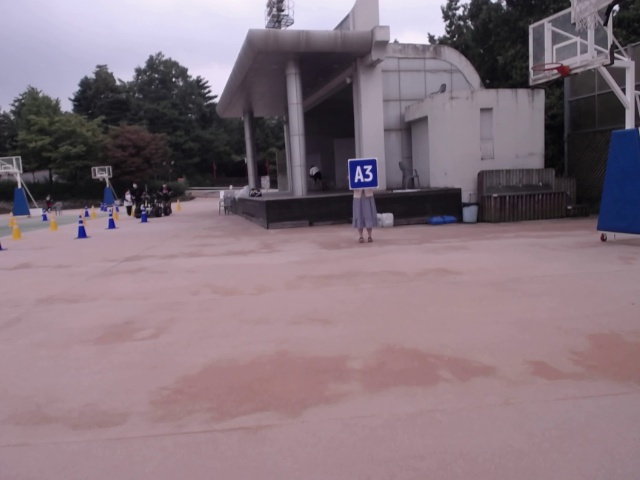delivery_a3: (348, 159, 379, 189)
